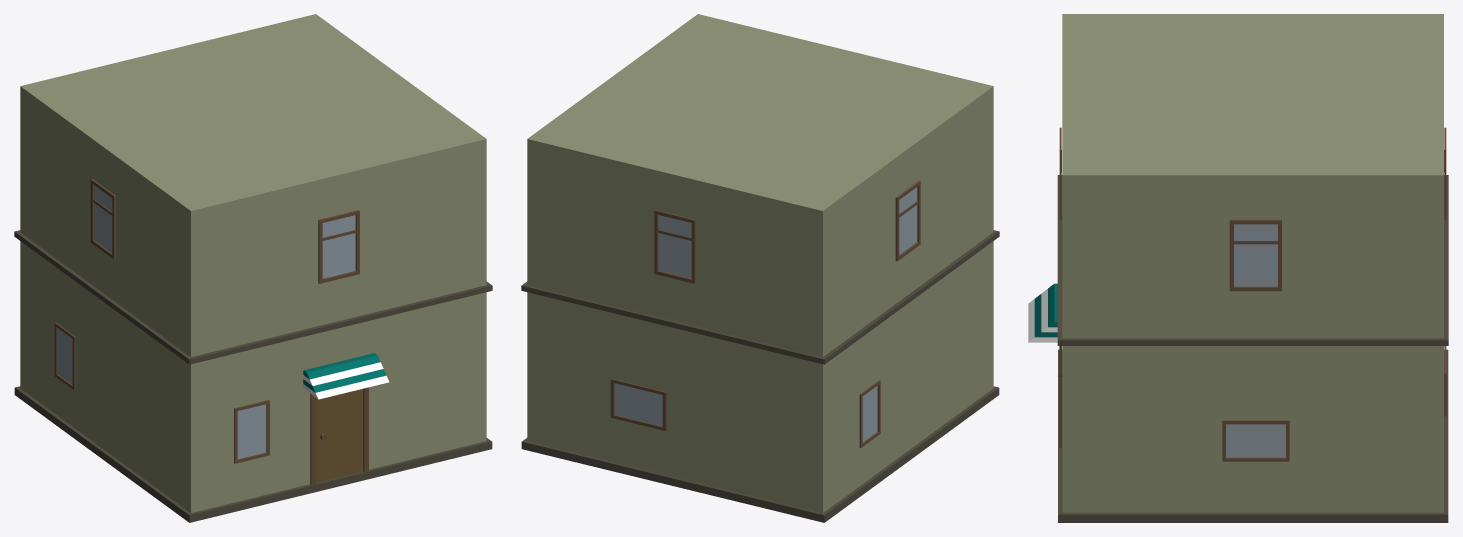
The model's file is BuildingGroundFloor.fbx.
The picture shows the model from 3 angles, left to right: view 1: azimuth 30°, elevation 25°; view 2: azimuth 150°, elevation 25°; view 3: azimuth 270°, elevation 25°; orthographic projection. The views are drawn at different scales.
Visible parts, largest first — view 1: Building; view 2: Building; view 3: Building.
Part boxes in pixels (box(x1,y1,x2,y2)): Building: box(14, 14, 492, 522); Building: box(521, 14, 999, 522); Building: box(1028, 14, 1448, 522).
Bounding box in the file's own units: 820 × 800 × 882.
